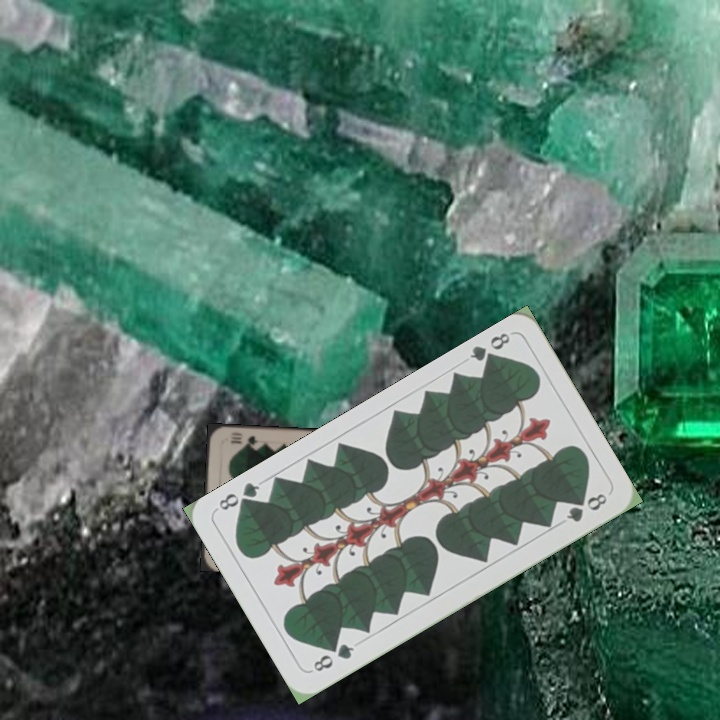G8: (465, 328, 513, 369), (309, 639, 357, 675)
